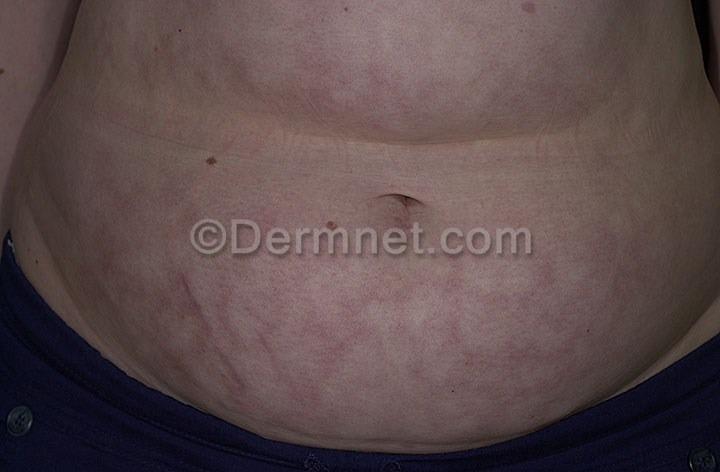Melasma: (110, 258, 619, 435)
